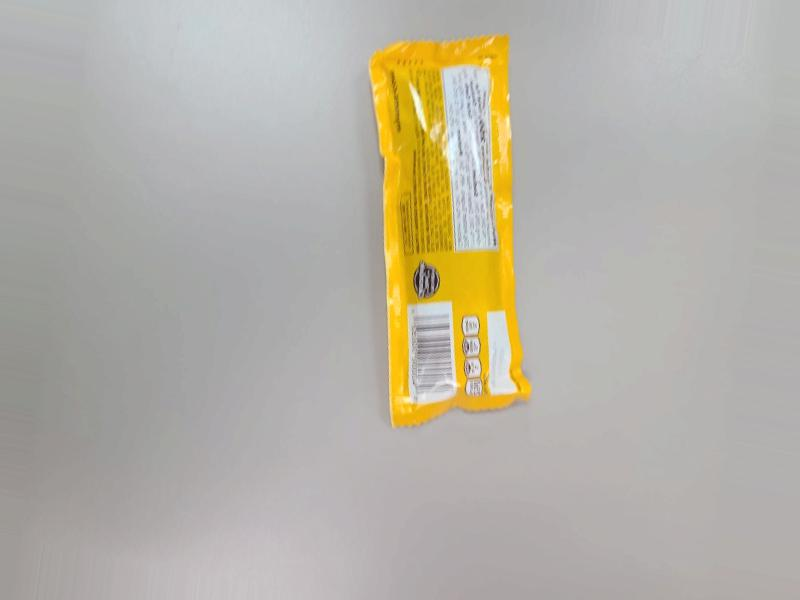m&m: (357, 42, 521, 416)
